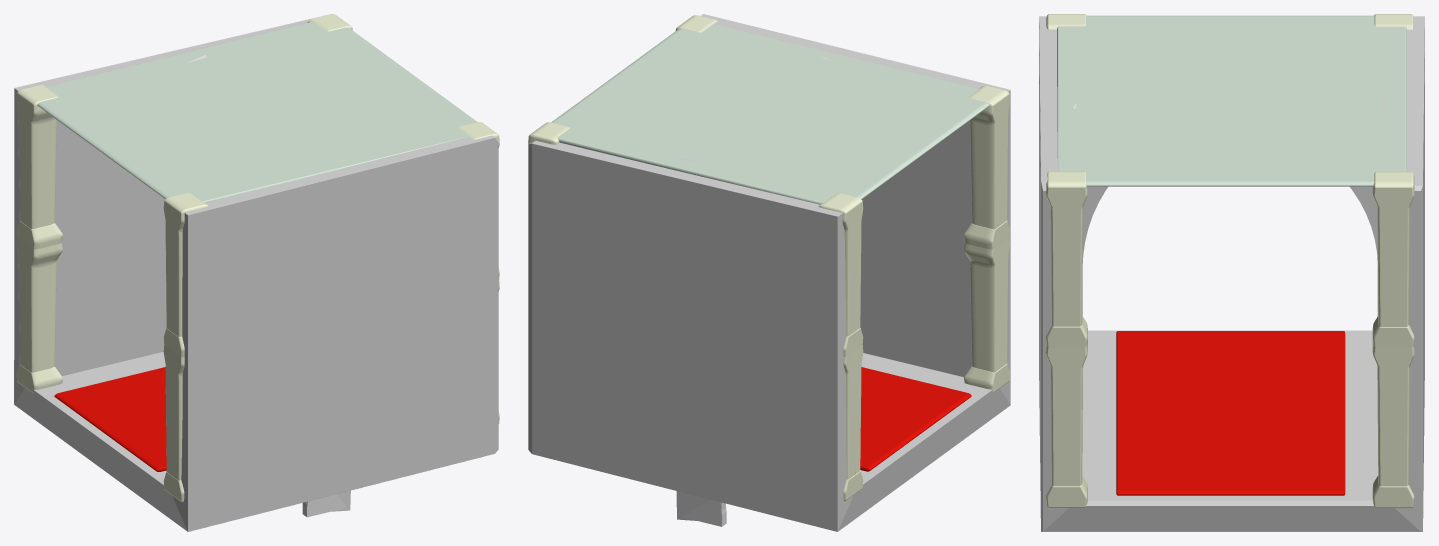
The model's file is 分割廊下1.fbx.
3 renders of one model, left to right at view 1: azimuth 30°, elevation 25°; view 2: azimuth 150°, elevation 25°; view 3: azimuth 270°, elevation 25°, orthographic. The views are drawn at different scales.
Parts seen in each view (by area): view 1: 立方体.010, 立方体.011, 立方体.004, 立方体.001, 立方体.003, 立方体.006, 立方体.008, 立方体.002, 立方体.012, 立方体.005; view 2: 立方体.010, 立方体.011, 立方体.004, 立方体.006, 立方体.008, 立方体.001, 立方体.003, 立方体.012, 立方体.007, 立方体.009, 立方体.013; view 3: 立方体.011, 立方体.010, 立方体.004, 立方体.013, 立方体.017, 立方体.015, 立方体.019, 立方体.012, 立方体.016, 立方体.020, 立方体.018, 立方体.014 (+2 smaller).
Boxes of the visible parts, <box> form: 立方体.010: <box>14,18,498,531</box>; 立方体.011: <box>37,21,476,202</box>; 立方体.004: <box>54,367,166,471</box>; 立方体.001: <box>16,85,58,228</box>; 立方体.003: <box>16,237,62,372</box>; 立方体.006: <box>163,193,208,336</box>; 立方体.008: <box>163,345,184,480</box>; 立方体.002: <box>16,220,62,249</box>; 立方体.012: <box>187,55,350,517</box>; 立方体.005: <box>16,364,62,393</box>; 立方体.010: <box>528,14,1010,531</box>; 立方体.011: <box>551,24,989,204</box>; 立方体.004: <box>860,367,971,471</box>; 立方体.006: <box>968,85,1009,229</box>; 立方体.008: <box>963,237,1009,372</box>; 立方体.001: <box>818,193,863,336</box>; 立方体.003: <box>843,345,863,479</box>; 立方体.012: <box>676,56,832,526</box>; 立方体.007: <box>964,220,1009,249</box>; 立方体.009: <box>964,363,1009,392</box>; 立方体.013: <box>528,122,569,144</box>; 立方体.011: <box>1057,15,1406,186</box>; 立方体.010: <box>1039,16,1424,531</box>; 立方体.004: <box>1116,331,1345,495</box>; 立方体.013: <box>1372,171,1414,326</box>; 立方体.017: <box>1046,171,1087,326</box>; 立方体.015: <box>1372,340,1414,486</box>; 立方体.019: <box>1046,341,1087,485</box>; 立方体.012: <box>1072,97,1388,315</box>; 立方体.016: <box>1372,475,1414,508</box>; 立方体.020: <box>1046,475,1087,508</box>; 立方体.018: <box>1046,316,1087,347</box>; 立方体.014: <box>1372,316,1414,347</box>.
Size of the model in its own units: 2116 by 2287 by 1990.
